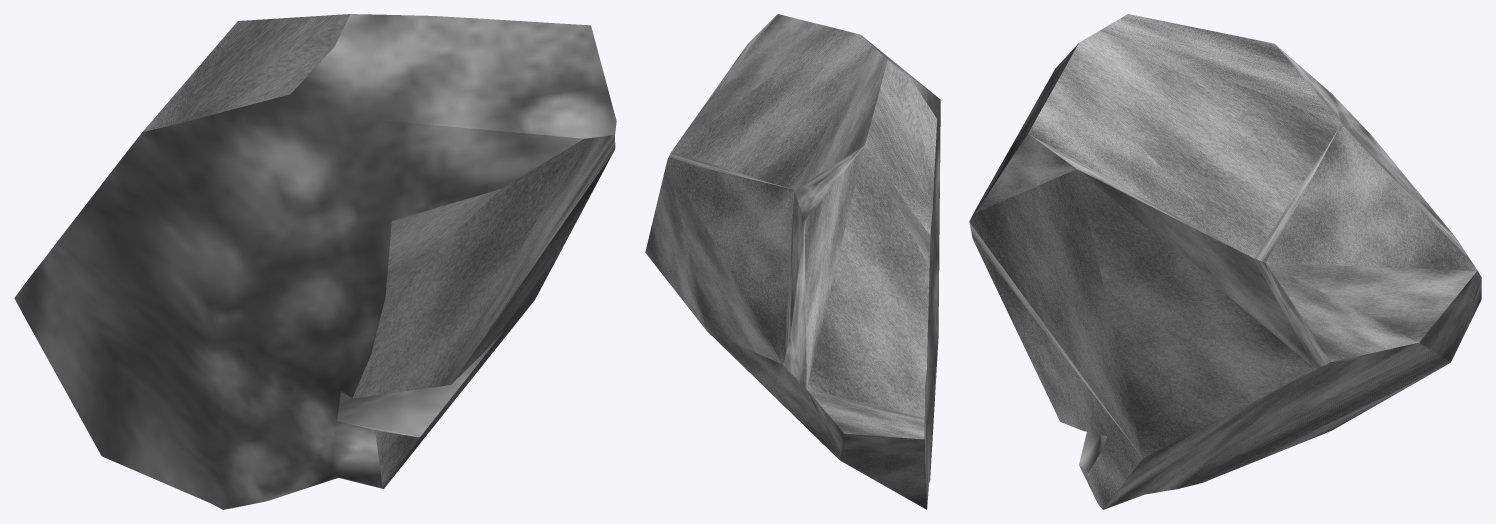
Rendered from body_cell_062.fbx.
The picture shows the model from 3 angles, left to right: view 1: azimuth 30°, elevation 25°; view 2: azimuth 150°, elevation 25°; view 3: azimuth 270°, elevation 25°; orthographic projection. The views are drawn at different scales.
Visible parts, largest first — view 1: body_cell.062; view 2: body_cell.062; view 3: body_cell.062.
Boxes of the visible parts, left/top/right/bottom form: body_cell.062: left=14, top=14, right=616, bottom=509; body_cell.062: left=645, top=14, right=940, bottom=509; body_cell.062: left=969, top=14, right=1481, bottom=509.
Bounding box in the file's own units: 40.52 × 46.94 × 42.26.
